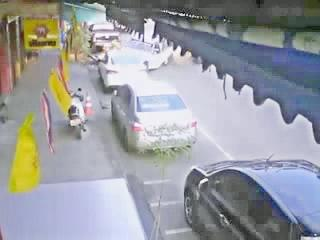Car: (189, 153, 320, 240), (111, 86, 194, 153), (127, 33, 174, 68), (102, 52, 149, 86), (88, 23, 121, 49)
Minor Accident: (114, 41, 171, 82)
Motor: (63, 88, 91, 141)
